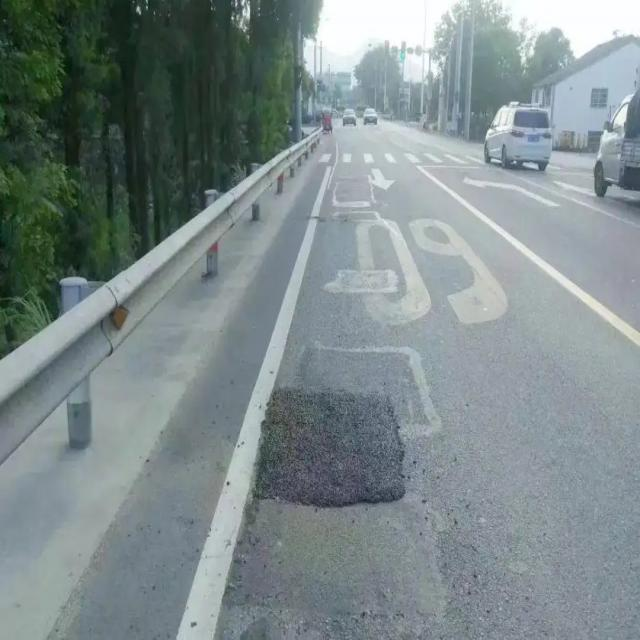Pothole: (257, 385, 411, 505)
